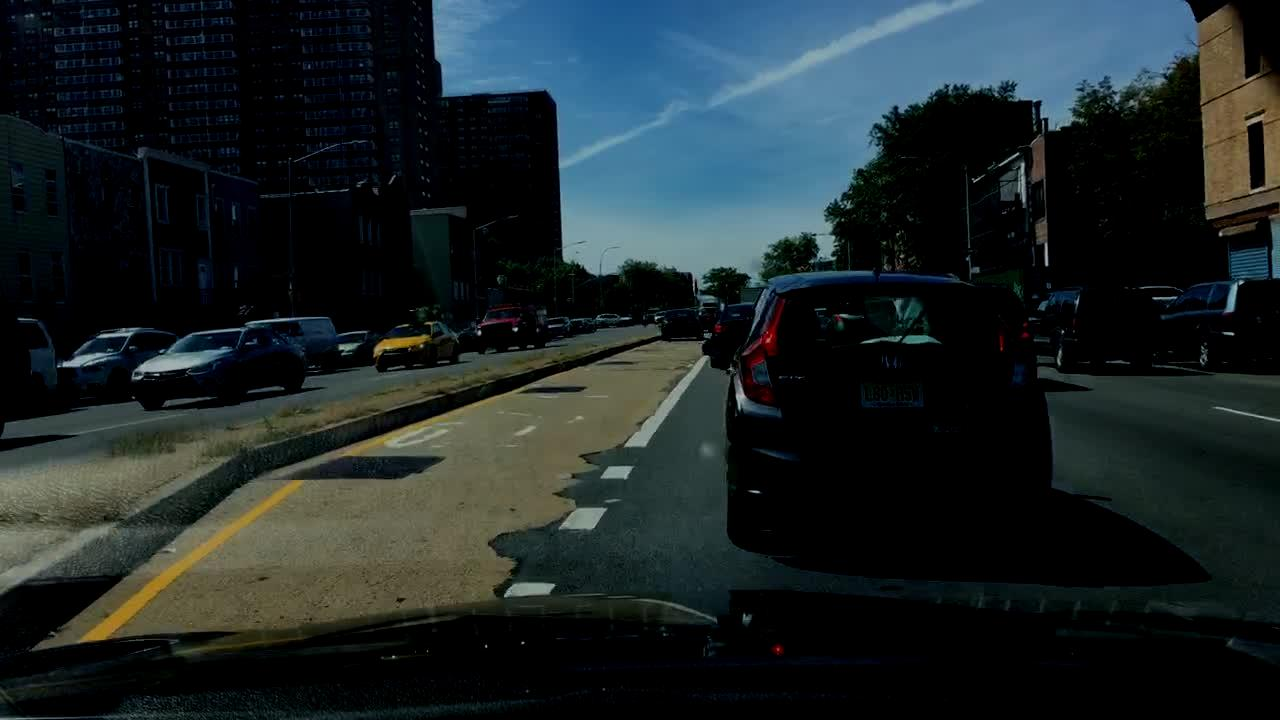Honda: (880, 348, 915, 381)
